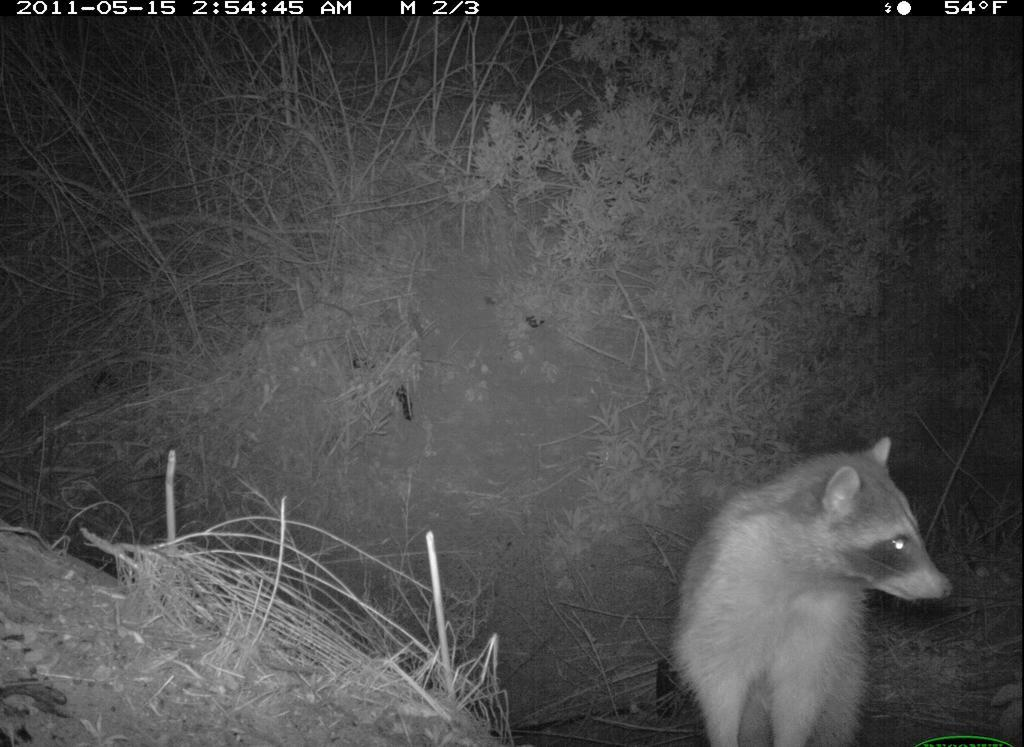raccoon: (666, 434, 963, 747)
